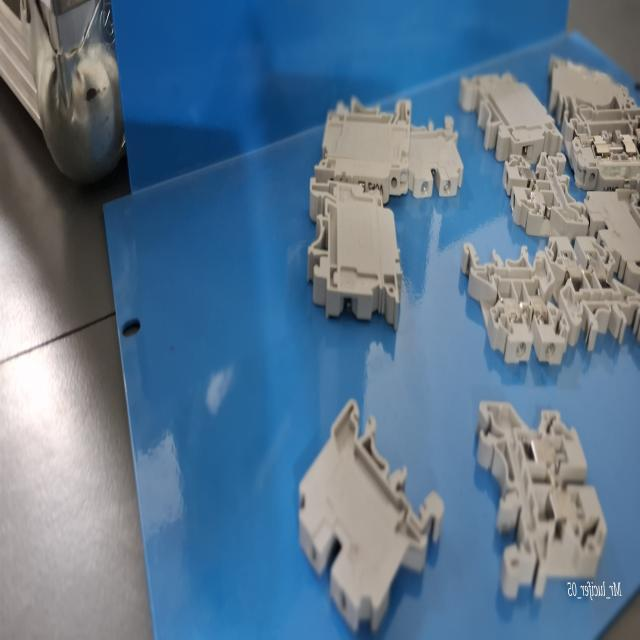Inverted: (278, 392, 443, 624), (401, 110, 464, 204)
Pass: (466, 382, 614, 616), (460, 237, 562, 394), (548, 230, 640, 352), (499, 149, 589, 239)
